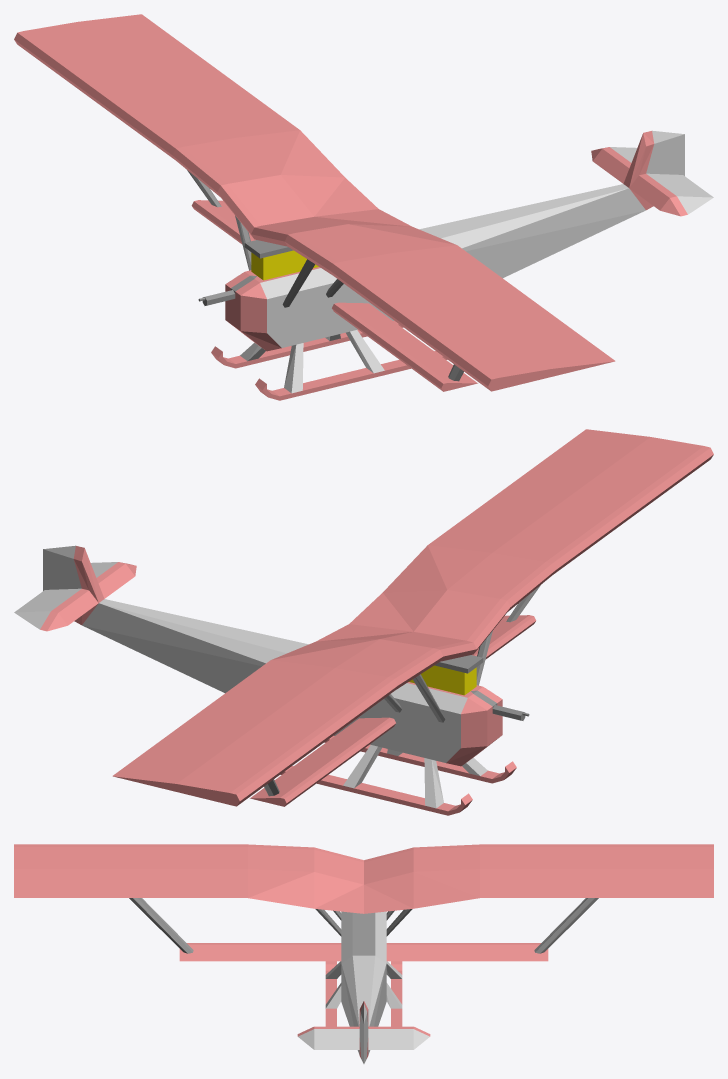
Rendered from BP Bomber V.I.fbx.
The picture shows the model from 3 angles, top to bottom: view 1: azimuth 30°, elevation 25°; view 2: azimuth 150°, elevation 25°; view 3: azimuth 270°, elevation 25°; orthographic projection. The views are drawn at different scales.
Parts seen in each view (by area): view 1: BP Bomber V.I; view 2: BP Bomber V.I; view 3: BP Bomber V.I.
Part boxes in pixels (bbox=[...]): BP Bomber V.I: bbox=[14, 14, 713, 400]; BP Bomber V.I: bbox=[14, 429, 713, 815]; BP Bomber V.I: bbox=[14, 844, 713, 1063].
Size of the model in its own units: 882 by 305 by 1491.
